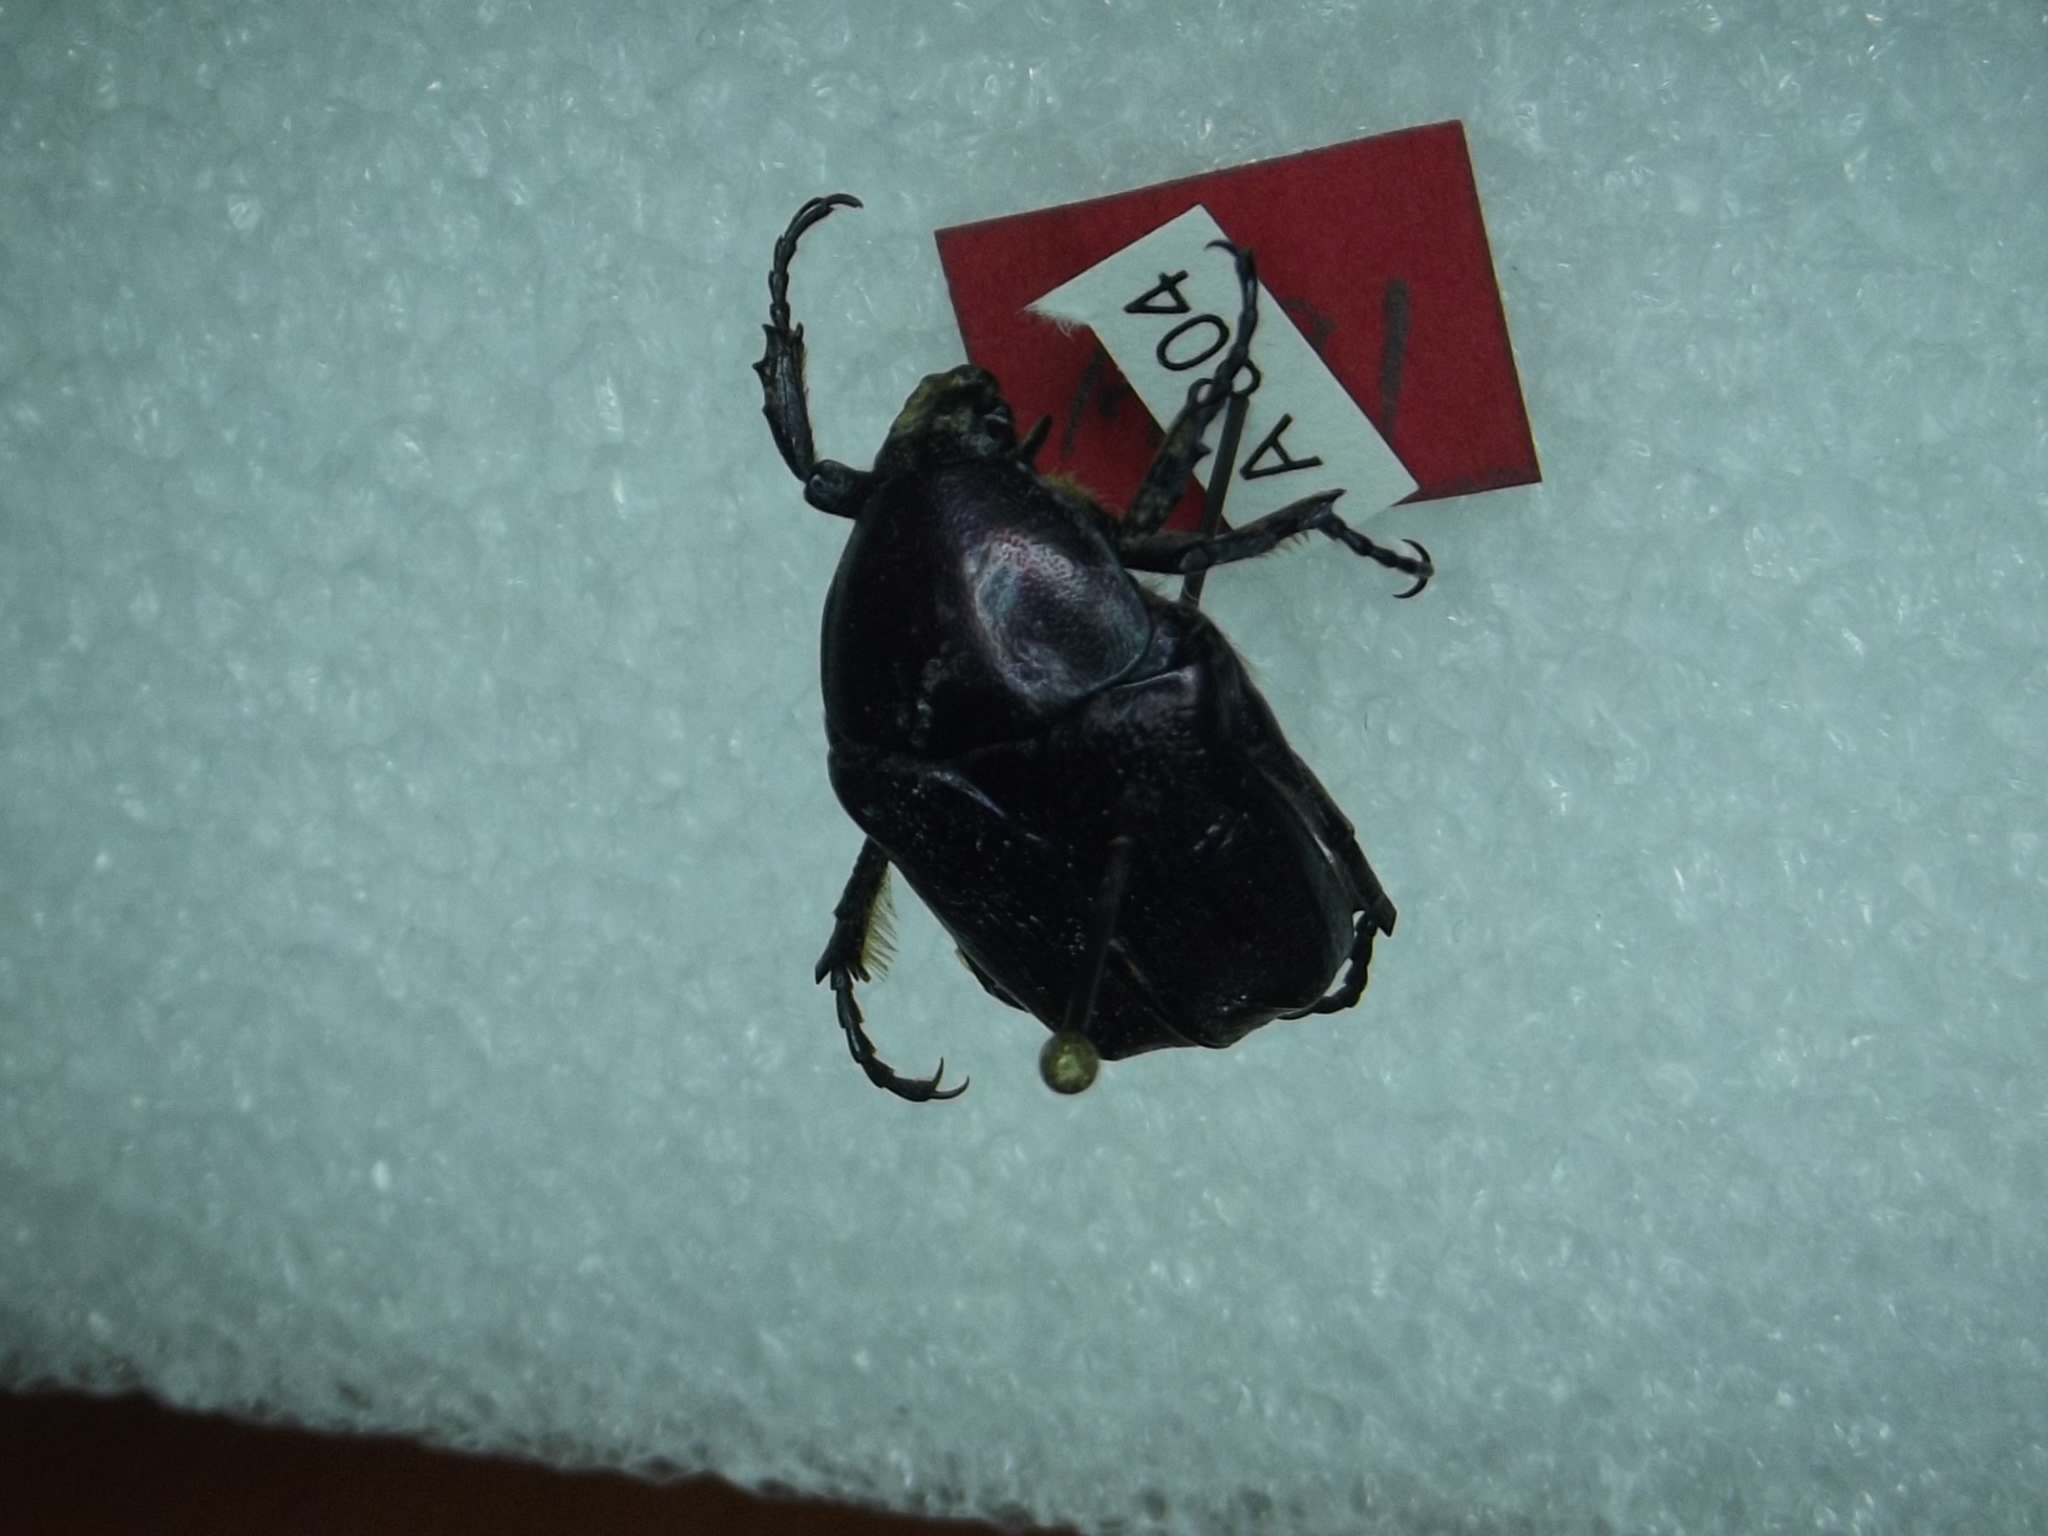Protaetia_besucheti: (747, 174, 1424, 1158)
